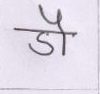ai_matra: (38, 4, 70, 31)
